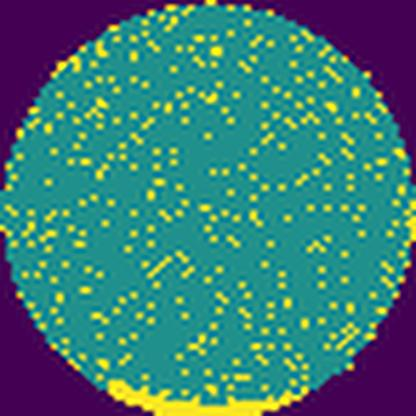Edge-Loc: (100, 371, 310, 416)
